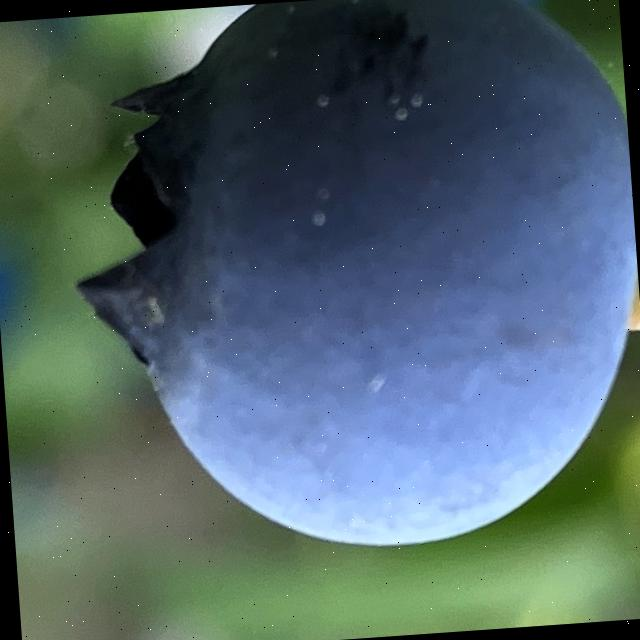Blueberries: (54, 0, 640, 574)
